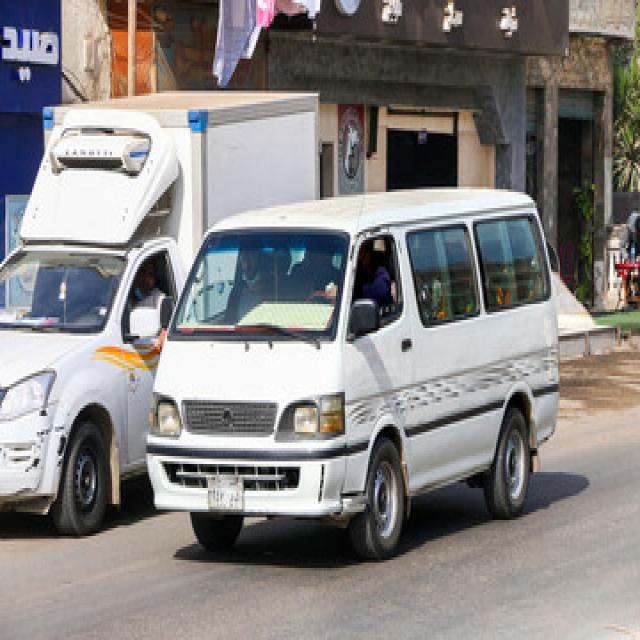van: (148, 189, 556, 557), (0, 91, 316, 533)
